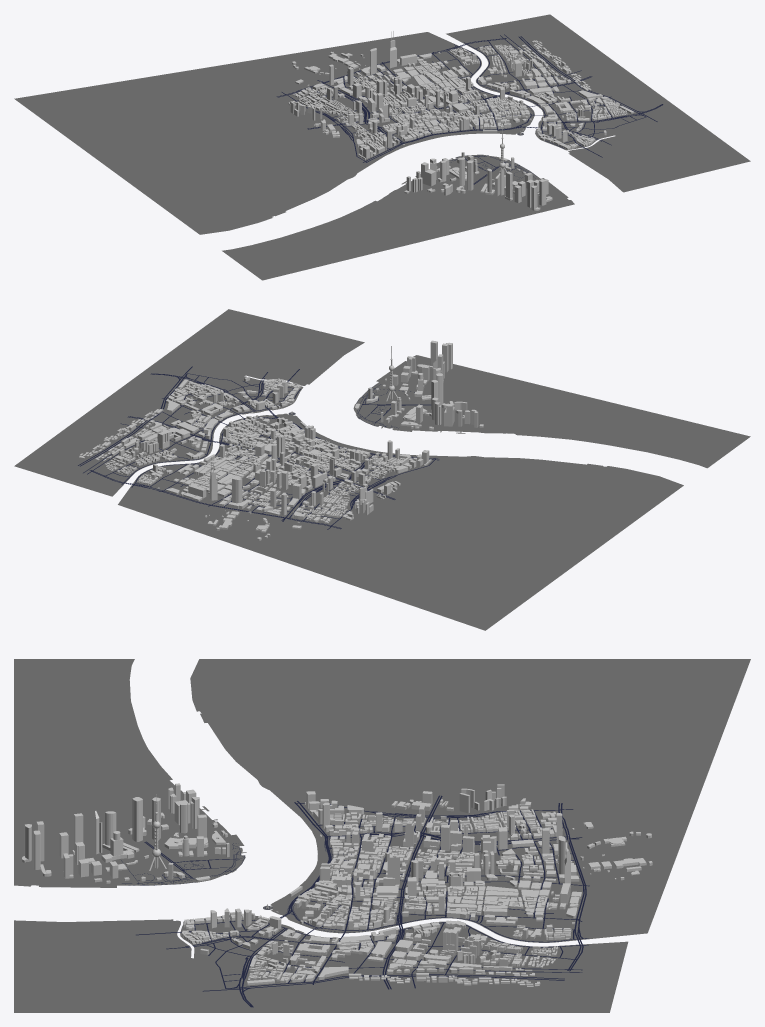
File: shanghai.FBX
The picture shows the model from 3 angles, top to bottom: view 1: azimuth 30°, elevation 25°; view 2: azimuth 150°, elevation 25°; view 3: azimuth 270°, elevation 25°; orthographic projection. The views are drawn at different scales.
Parts seen in each view (by area): view 1: LANDMASS, CITY_UNTRIANGULATED, ROADS; view 2: LANDMASS, CITY_UNTRIANGULATED, ROADS; view 3: LANDMASS, CITY_UNTRIANGULATED, ROADS.
Part boxes in pixels (bbox=[...]): LANDMASS: bbox=[14, 14, 750, 280]; CITY_UNTRIANGULATED: bbox=[288, 31, 634, 210]; ROADS: bbox=[276, 34, 663, 184]; LANDMASS: bbox=[14, 309, 750, 630]; CITY_UNTRIANGULATED: bbox=[79, 340, 483, 540]; ROADS: bbox=[78, 366, 439, 529]; LANDMASS: bbox=[14, 659, 750, 1012]; CITY_UNTRIANGULATED: bbox=[22, 783, 652, 986]; ROADS: bbox=[121, 795, 589, 1007].
Bounding box in the file's own units: 4027 × 400 × 3545.
